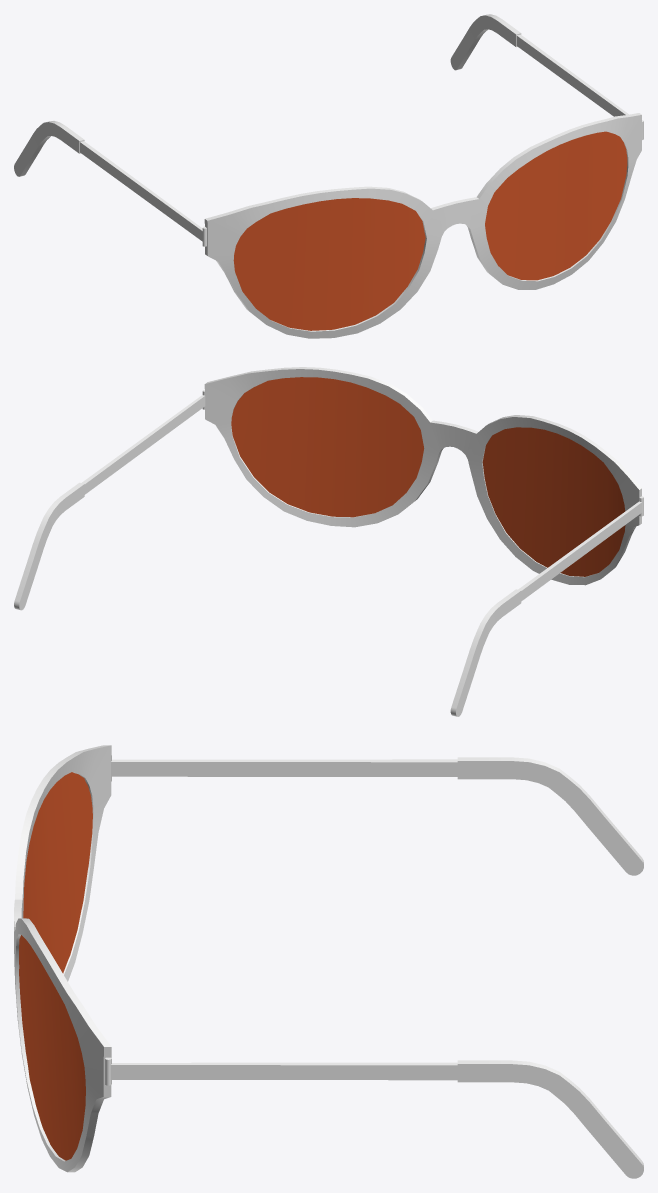
File: glasses15.001.fbx
The picture shows the model from 3 angles, top to bottom: view 1: azimuth 30°, elevation 25°; view 2: azimuth 150°, elevation 25°; view 3: azimuth 270°, elevation 25°; orthographic projection. The views are drawn at different scales.
Parts seen in each view (by area): view 1: glasses15.001; view 2: glasses15.001; view 3: glasses15.001.
Part boxes in pixels (box(x1,y1,x2,y2)): glasses15.001: box(14, 14, 643, 338); glasses15.001: box(14, 367, 643, 716); glasses15.001: box(14, 745, 643, 1178).
Size of the model in its own units: 2.18 by 0.7101 by 1.89.
